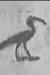G25: (5, 1, 46, 74)
